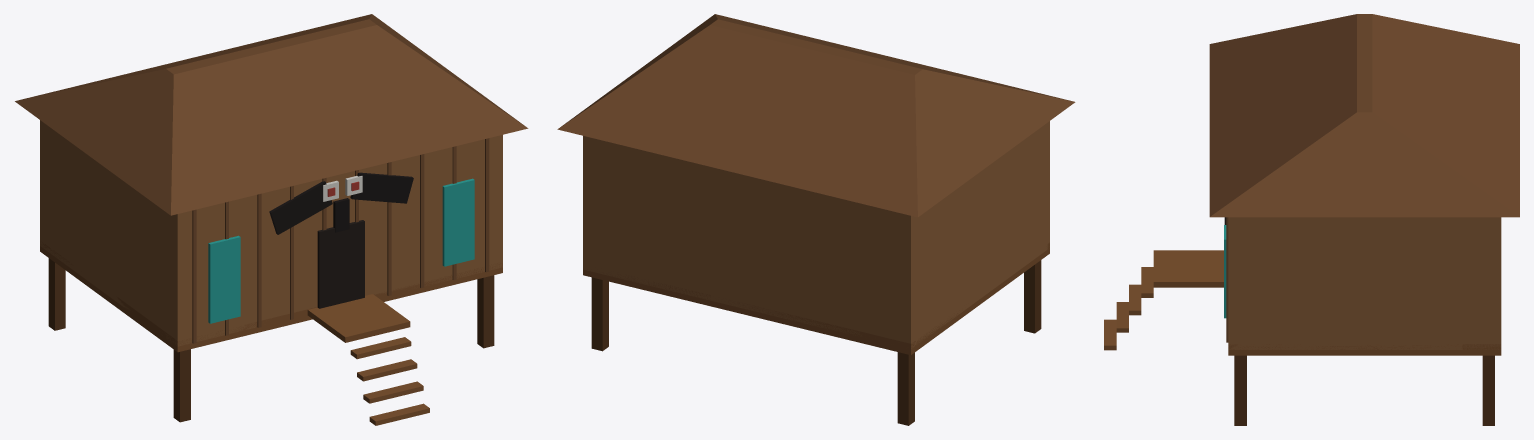
Rendered from bird_house_b_broken.glb.
The picture shows the model from 3 angles, left to right: view 1: azimuth 30°, elevation 25°; view 2: azimuth 150°, elevation 25°; view 3: azimuth 270°, elevation 25°; orthographic projection.
Visible parts, largest first — view 1: bird_house_b_piece13, bird_house_b_piece2, bird_house_b_piece4, bird_house_b_piece6, bird_house_b_piece9, bird_house_b_piece11, bird_house_b_piece10, bird_house_b_piece3, bird_house_b_piece7, bird_house_b_piece0, bird_house_b_piece1; view 2: bird_house_b_piece10, bird_house_b_piece8, bird_house_b_piece7, bird_house_b_piece9, bird_house_b_piece4, bird_house_b_piece3, bird_house_b_piece6, bird_house_b_piece1, bird_house_b_piece13; view 3: bird_house_b_piece5, bird_house_b_piece11, bird_house_b_piece8, bird_house_b_piece13, bird_house_b_piece7, bird_house_b_piece6, bird_house_b_piece2, bird_house_b_piece10, bird_house_b_piece4, bird_house_b_piece9, bird_house_b_piece1.
Part boxes in pixels (x1=…): bird_house_b_piece13: x1=289, y1=28, x2=460, y2=328; bird_house_b_piece2: x1=326, y1=150, x2=502, y2=425; bird_house_b_piece4: x1=141, y1=85, x2=280, y2=422; bird_house_b_piece6: x1=214, y1=18, x2=386, y2=256; bird_house_b_piece9: x1=78, y1=75, x2=285, y2=326; bird_house_b_piece11: x1=408, y1=78, x2=528, y2=238; bird_house_b_piece10: x1=15, y1=57, x2=195, y2=251; bird_house_b_piece3: x1=41, y1=142, x2=108, y2=330; bird_house_b_piece7: x1=137, y1=26, x2=335, y2=108; bird_house_b_piece0: x1=253, y1=243, x2=346, y2=333; bird_house_b_piece1: x1=225, y1=17, x2=383, y2=338; bird_house_b_piece10: x1=735, y1=78, x2=978, y2=354; bird_house_b_piece8: x1=557, y1=59, x2=734, y2=351; bird_house_b_piece7: x1=703, y1=37, x2=952, y2=344; bird_house_b_piece9: x1=847, y1=49, x2=1044, y2=304; bird_house_b_piece4: x1=862, y1=53, x2=1075, y2=333; bird_house_b_piece3: x1=897, y1=165, x2=981, y2=425; bird_house_b_piece6: x1=657, y1=19, x2=1022, y2=89; bird_house_b_piece1: x1=647, y1=49, x2=732, y2=75; bird_house_b_piece13: x1=655, y1=16, x2=925, y2=65; bird_house_b_piece5: x1=1309, y1=155, x2=1483, y2=355; bird_house_b_piece11: x1=1209, y1=157, x2=1380, y2=355; bird_house_b_piece8: x1=1409, y1=123, x2=1519, y2=425; bird_house_b_piece13: x1=1190, y1=112, x2=1410, y2=261; bird_house_b_piece7: x1=1328, y1=14, x2=1518, y2=131; bird_house_b_piece6: x1=1209, y1=65, x2=1411, y2=161; bird_house_b_piece2: x1=1104, y1=156, x2=1331, y2=425; bird_house_b_piece10: x1=1376, y1=14, x2=1519, y2=131; bird_house_b_piece4: x1=1209, y1=30, x2=1318, y2=73; bird_house_b_piece9: x1=1277, y1=17, x2=1342, y2=74; bird_house_b_piece1: x1=1392, y1=106, x2=1439, y2=162.
Size of the model in its own units: 3.3 by 2.55 by 3.35.
